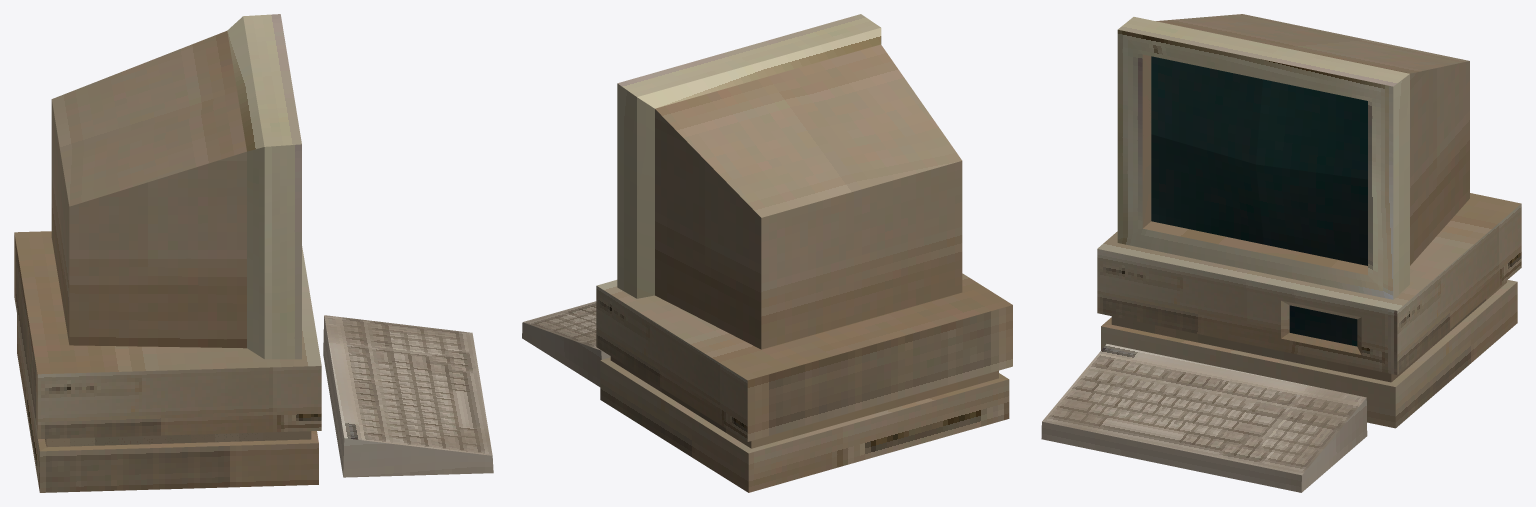
File: smalcomputer.glb
3 renders of one model, left to right at view 1: azimuth 30°, elevation 25°; view 2: azimuth 150°, elevation 25°; view 3: azimuth 270°, elevation 25°, orthographic. The views are drawn at different scales.
Visible parts, largest first — view 1: computer; view 2: computer; view 3: computer.
Boxes of the visible parts, <box> form: computer: <box>14,14,493,492</box>; computer: <box>522,14,1012,492</box>; computer: <box>1041,14,1521,492</box>.
Size of the model in its own units: 1.68 by 1.14 by 1.48.
1 material, 1 textured.
